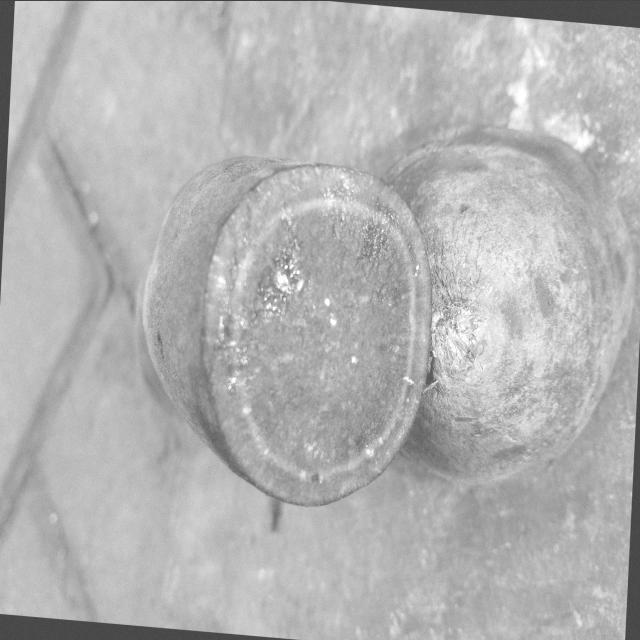Healthy Sweet Potato: (204, 163, 431, 505)
